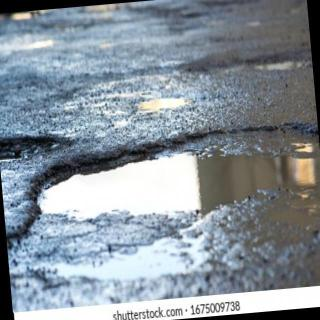pothole: (29, 126, 320, 225), (0, 135, 54, 161), (139, 94, 191, 112), (249, 55, 301, 72)
